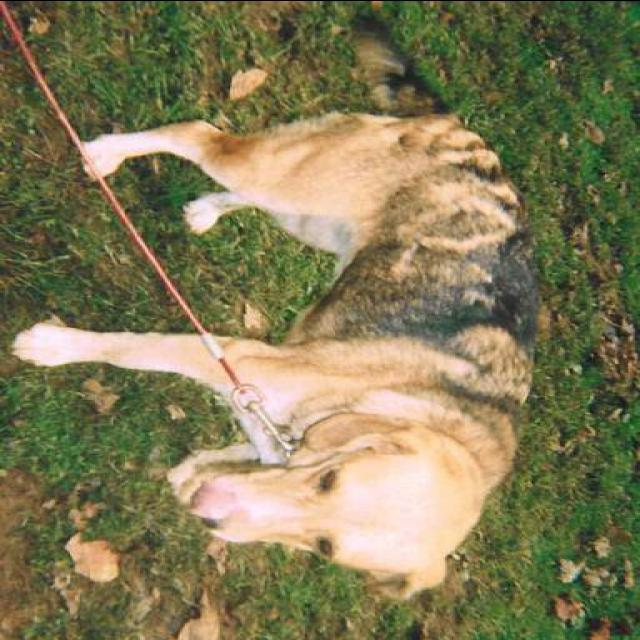dog: (10, 12, 546, 596)
